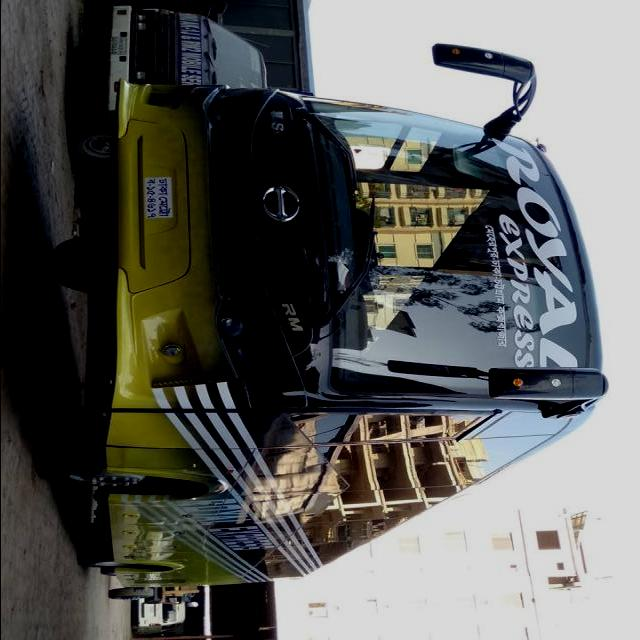bus: (35, 42, 609, 589)
